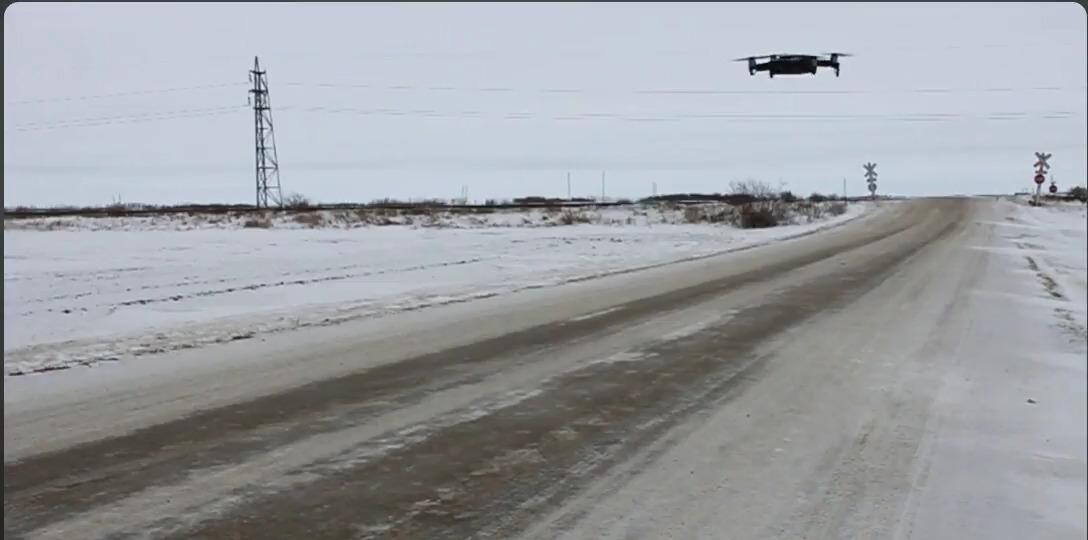dr: (719, 25, 881, 113)
